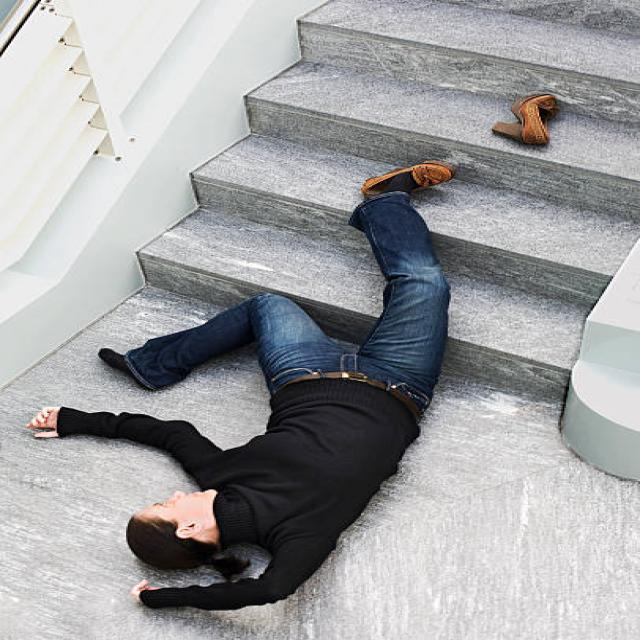lie: (76, 137, 512, 616)
